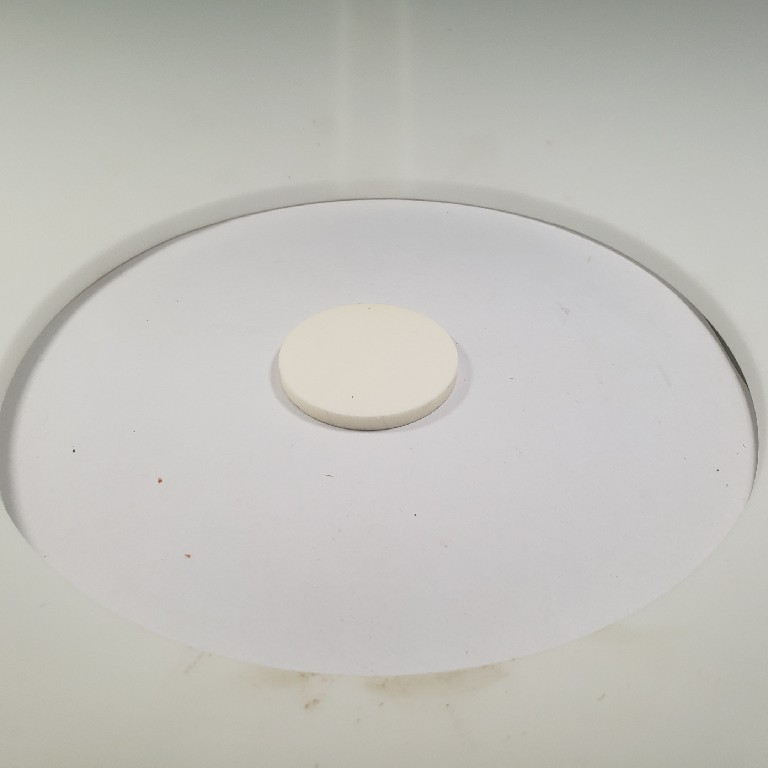ceramics: (269, 296, 464, 435)
